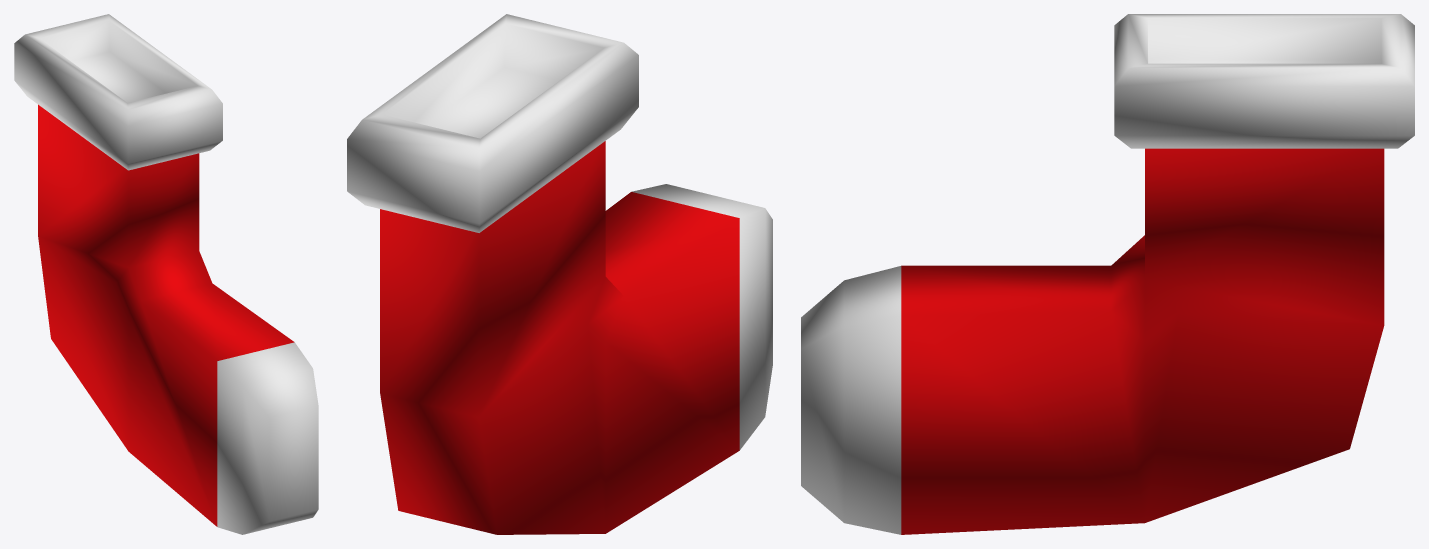
Rendered from socksLow.fbx.
The picture shows the model from 3 angles, left to right: view 1: azimuth 30°, elevation 25°; view 2: azimuth 150°, elevation 25°; view 3: azimuth 270°, elevation 25°; orthographic projection. The views are drawn at different scales.
Parts seen in each view (by area): view 1: socksLow; view 2: socksLow; view 3: socksLow.
Part boxes in pixels (bbox=[...]): socksLow: bbox=[14, 14, 318, 534]; socksLow: bbox=[347, 14, 772, 534]; socksLow: bbox=[801, 14, 1414, 534].
Size of the model in its own units: 0.0845 by 0.3027 by 0.359.
